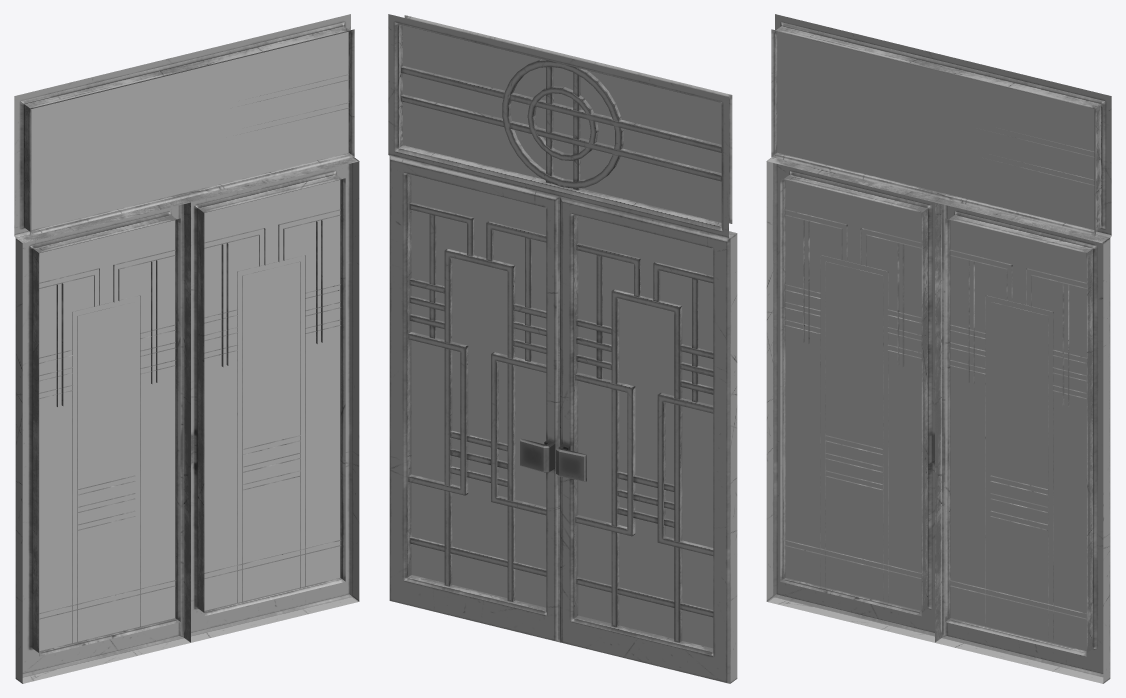
Rendered from SM_Door2.fbx.
The picture shows the model from 3 angles, left to right: view 1: azimuth 30°, elevation 25°; view 2: azimuth 150°, elevation 25°; view 3: azimuth 330°, elevation 25°; orthographic projection.
Parts seen in each view (by area): view 1: SM_Door2_LOD0; view 2: SM_Door2_LOD0; view 3: SM_Door2_LOD0.
Part boxes in pixels (x1,y1,x2,y2): SM_Door2_LOD0: [14, 14, 359, 683]; SM_Door2_LOD0: [388, 14, 737, 683]; SM_Door2_LOD0: [766, 14, 1111, 683].
Size of the model in its own units: 250 by 21.81 by 413.
Materials: 2 (1 with a texture image).
